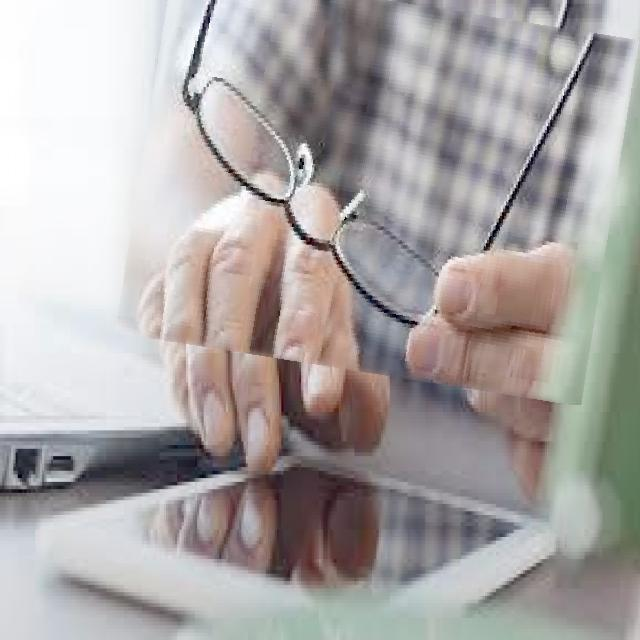glasses: (128, 0, 626, 388)
